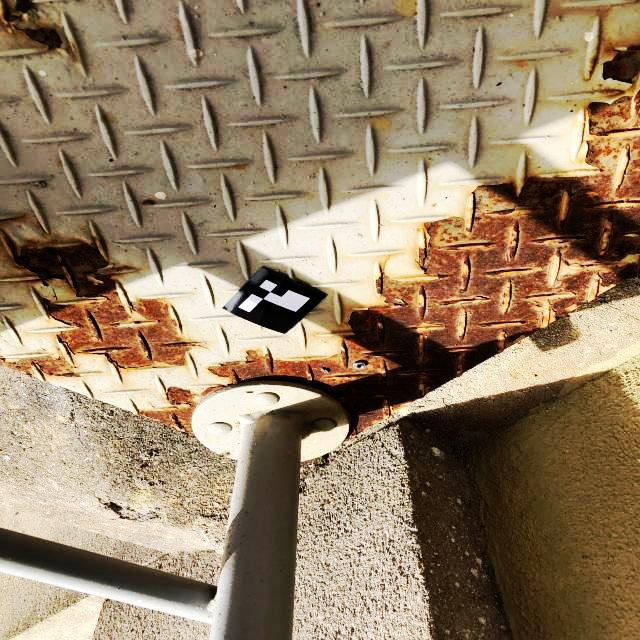Corrosion: (134, 43, 640, 444), (0, 213, 211, 379), (0, 0, 78, 63), (382, 254, 392, 275), (588, 55, 598, 76), (300, 457, 319, 467), (142, 199, 157, 206)
